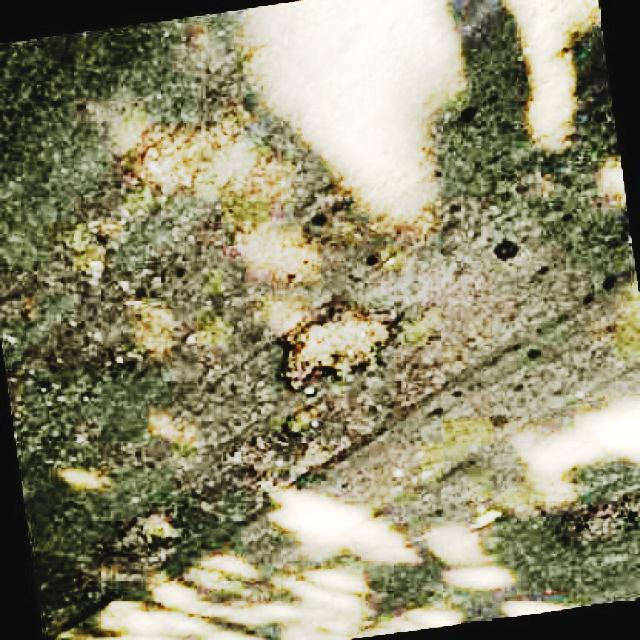pothole: (69, 103, 220, 254), (274, 294, 408, 401), (111, 292, 203, 372), (102, 498, 182, 571), (561, 484, 640, 549)
